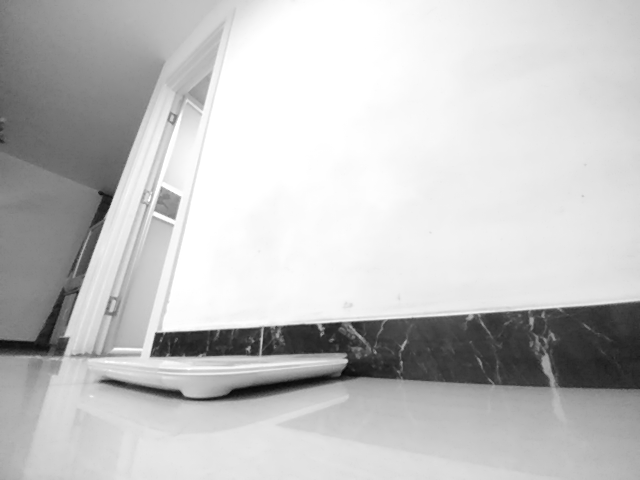scale: (87, 353, 349, 400)
